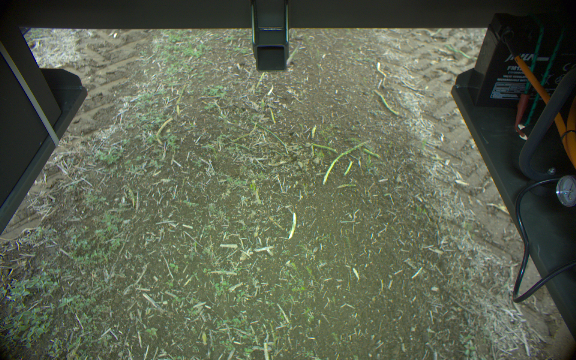aspa: (322, 136, 369, 186), (370, 87, 405, 118)
